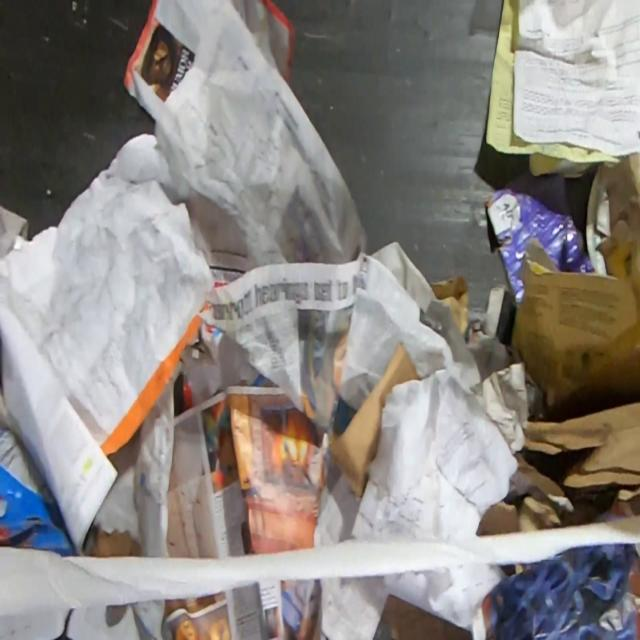cardboard: (508, 152, 640, 410), (475, 400, 640, 536), (328, 339, 422, 497), (484, 186, 595, 302), (0, 425, 78, 556), (428, 273, 469, 335)
